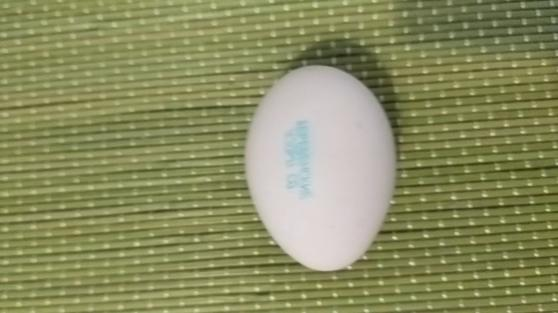egg: (243, 63, 395, 274)
